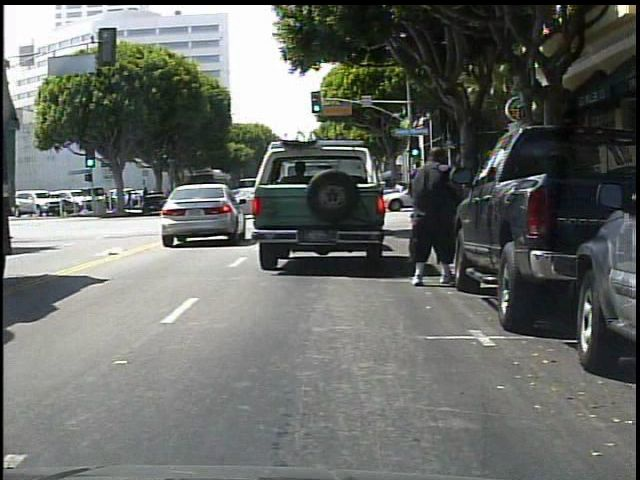person: (410, 142, 461, 289)
